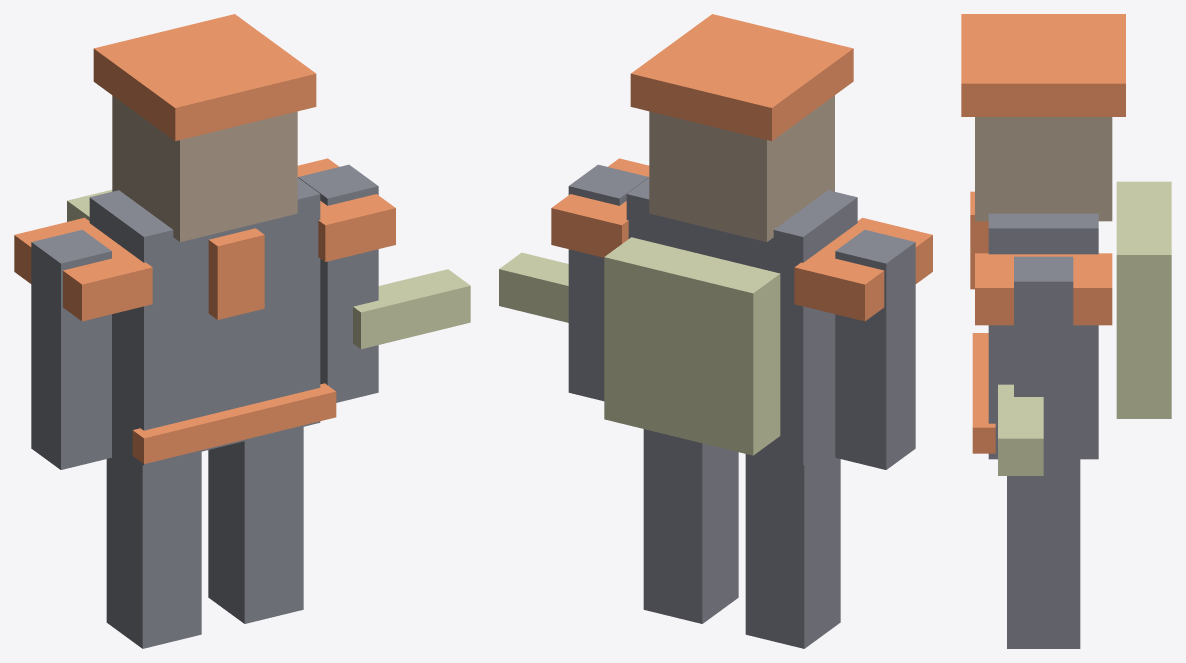
The model's file is 08_rook_signalborn_courier_near_emergency.glb.
3 renders of one model, left to right at view 1: azimuth 30°, elevation 25°; view 2: azimuth 150°, elevation 25°; view 3: azimuth 270°, elevation 25°, orthographic.
Parts seen in each view (by area): view 1: Rook Signalborn, Courier near Emergency; view 2: Rook Signalborn, Courier near Emergency; view 3: Rook Signalborn, Courier near Emergency.
Part boxes in pixels (<box>): Rook Signalborn, Courier near Emergency: <box>14,14,470,648</box>; Rook Signalborn, Courier near Emergency: <box>499,14,932,648</box>; Rook Signalborn, Courier near Emergency: <box>961,14,1171,648</box>.
Bounding box in the file's own units: 1.07 × 1.41 × 0.4785.
